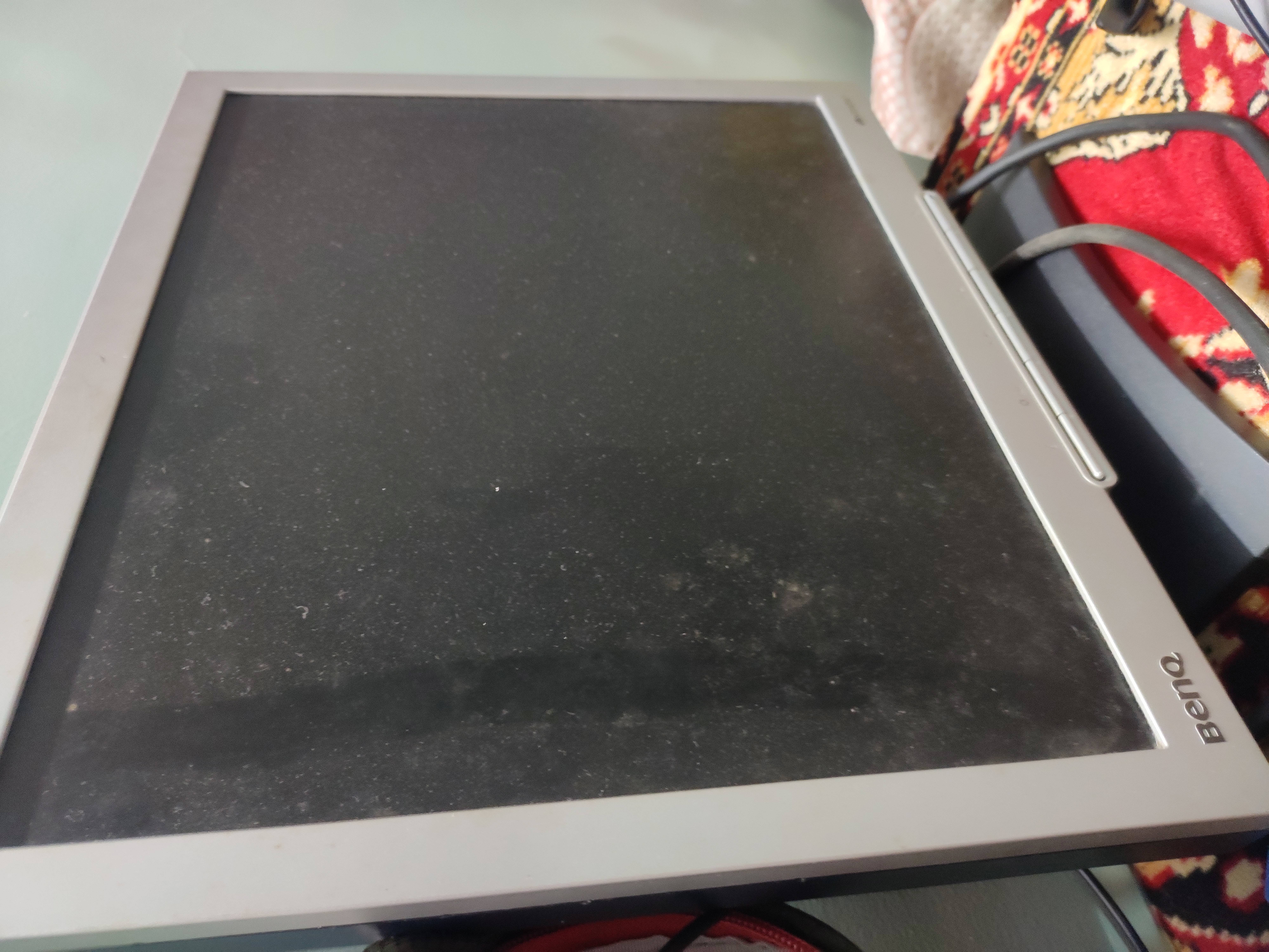Electronics: (1, 60, 1268, 952)
